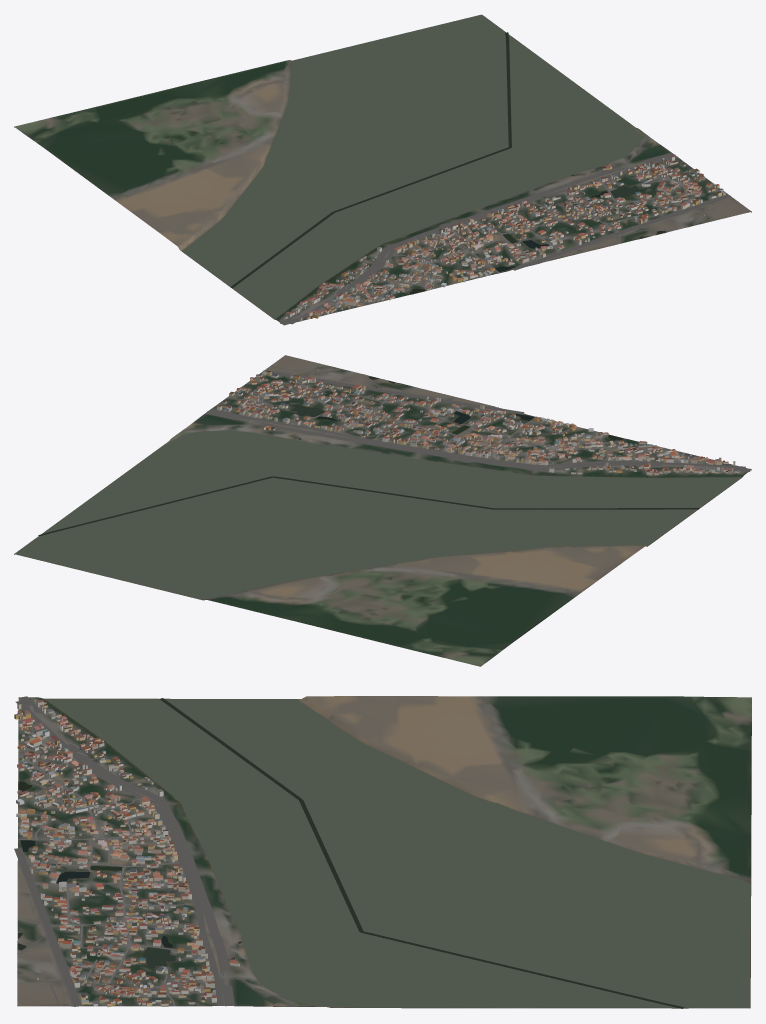
3 renders of one model, top to bottom at view 1: azimuth 30°, elevation 25°; view 2: azimuth 150°, elevation 25°; view 3: azimuth 270°, elevation 25°, orthographic. The views are drawn at different scales.
Visible parts, largest first — view 1: water, ground, buildings, roads; view 2: water, ground, buildings, roads; view 3: water, ground, buildings, roads.
Boxes of the visible parts, x1,y1,x2,y2 form: water: [182, 14, 713, 319]; ground: [14, 32, 751, 325]; buildings: [282, 155, 725, 321]; roads: [280, 136, 738, 325]; water: [15, 376, 741, 599]; ground: [14, 355, 751, 666]; buildings: [217, 369, 739, 475]; roads: [182, 363, 750, 472]; water: [18, 698, 750, 1008]; ground: [17, 696, 751, 1008]; buildings: [14, 699, 239, 1007]; roads: [14, 696, 296, 1006].
Size of the model in its own units: 1407 by 20.28 by 1410.
